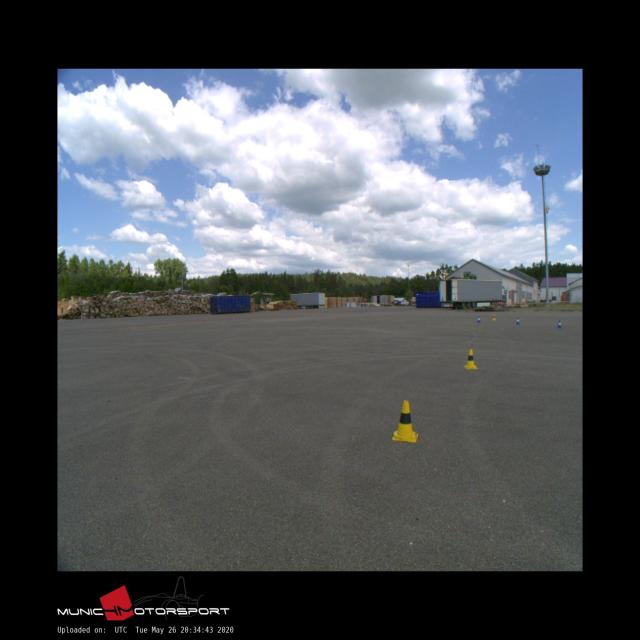blue_cone: (557, 320, 562, 328), (477, 316, 481, 323), (516, 317, 520, 324)
yellow_cone: (392, 401, 418, 442), (463, 348, 478, 369), (492, 314, 496, 321)
